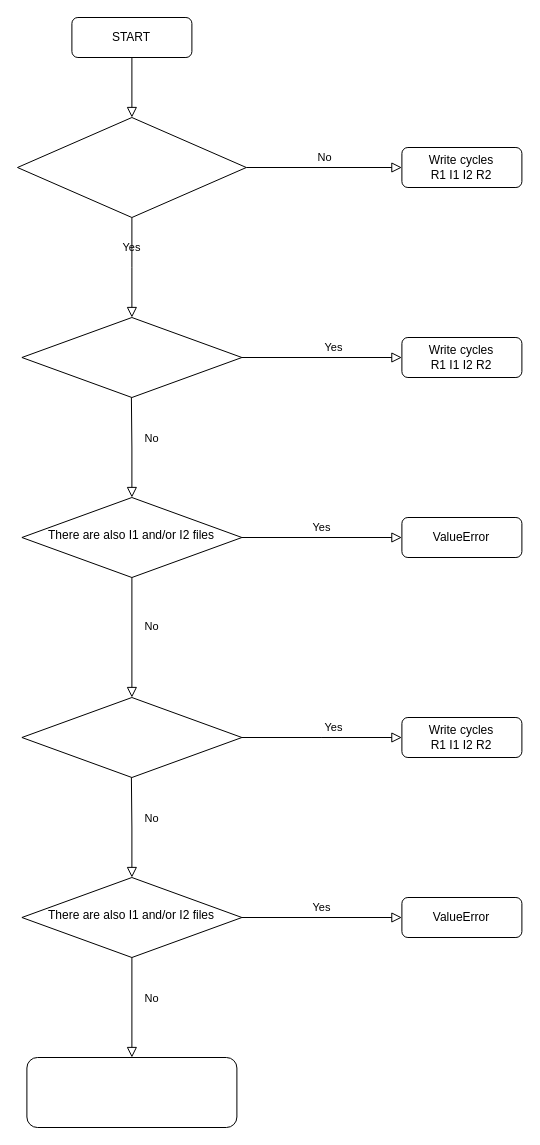
This 540x1145 diagram has some shape labels left out. The shapes that lost their labels are listed below. From the top down, each one's centre as x and y in pixels, then its label:
(x=131, y=167): R1 and R2 have Index in sequence description?
(x=131, y=357): option --excludeIndex active?
(x=131, y=737): option --excludeUMI active?
(x=131, y=1092): Write R1 and R2 cycles and usi INDEX and UMI to write indexes
